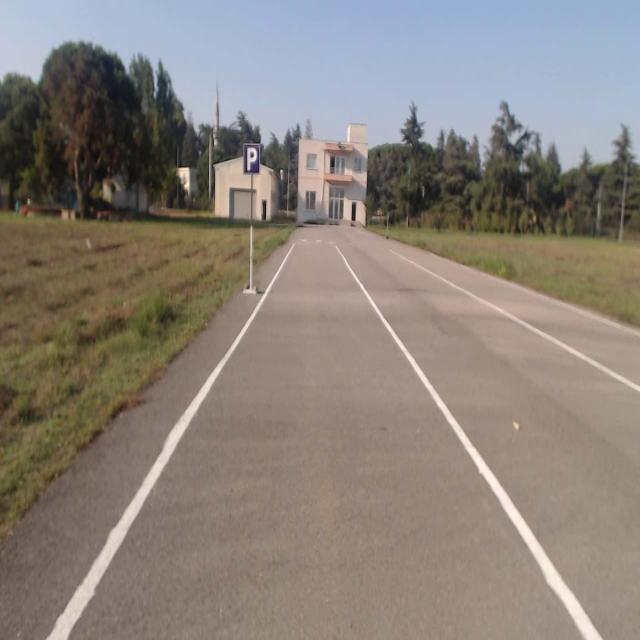park: (243, 143, 260, 174)
